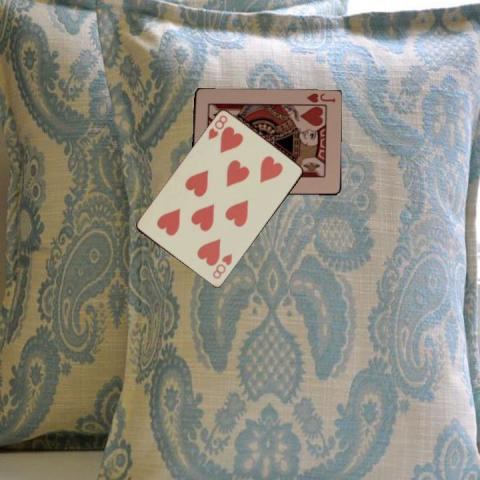8h: (209, 250, 234, 280), (205, 112, 229, 141)
Jh: (303, 90, 336, 104)
